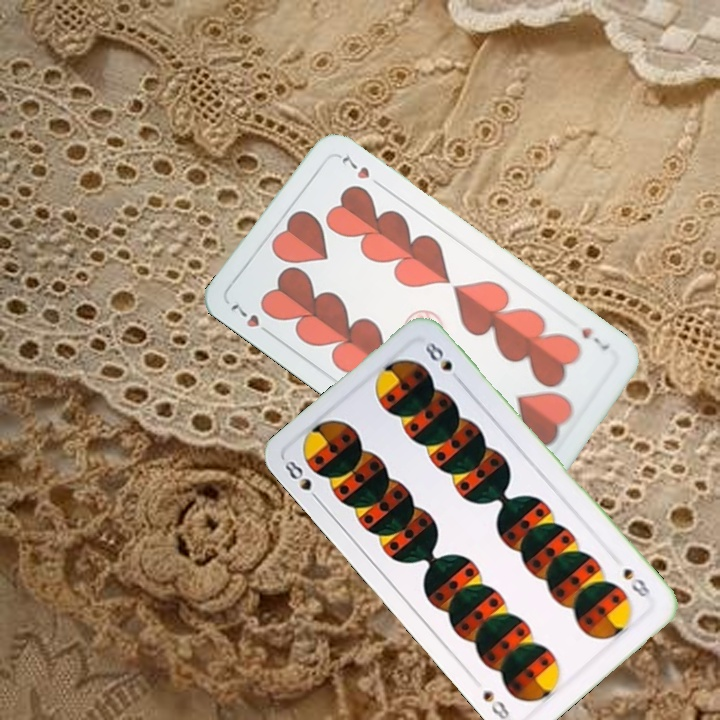H7: (226, 296, 276, 339), (577, 323, 614, 353)
S8: (280, 456, 324, 506), (619, 564, 656, 602)
